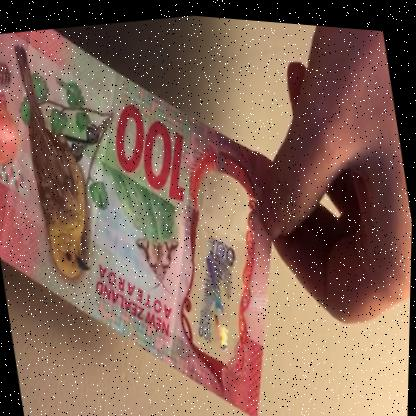100B: (180, 218, 253, 358)
